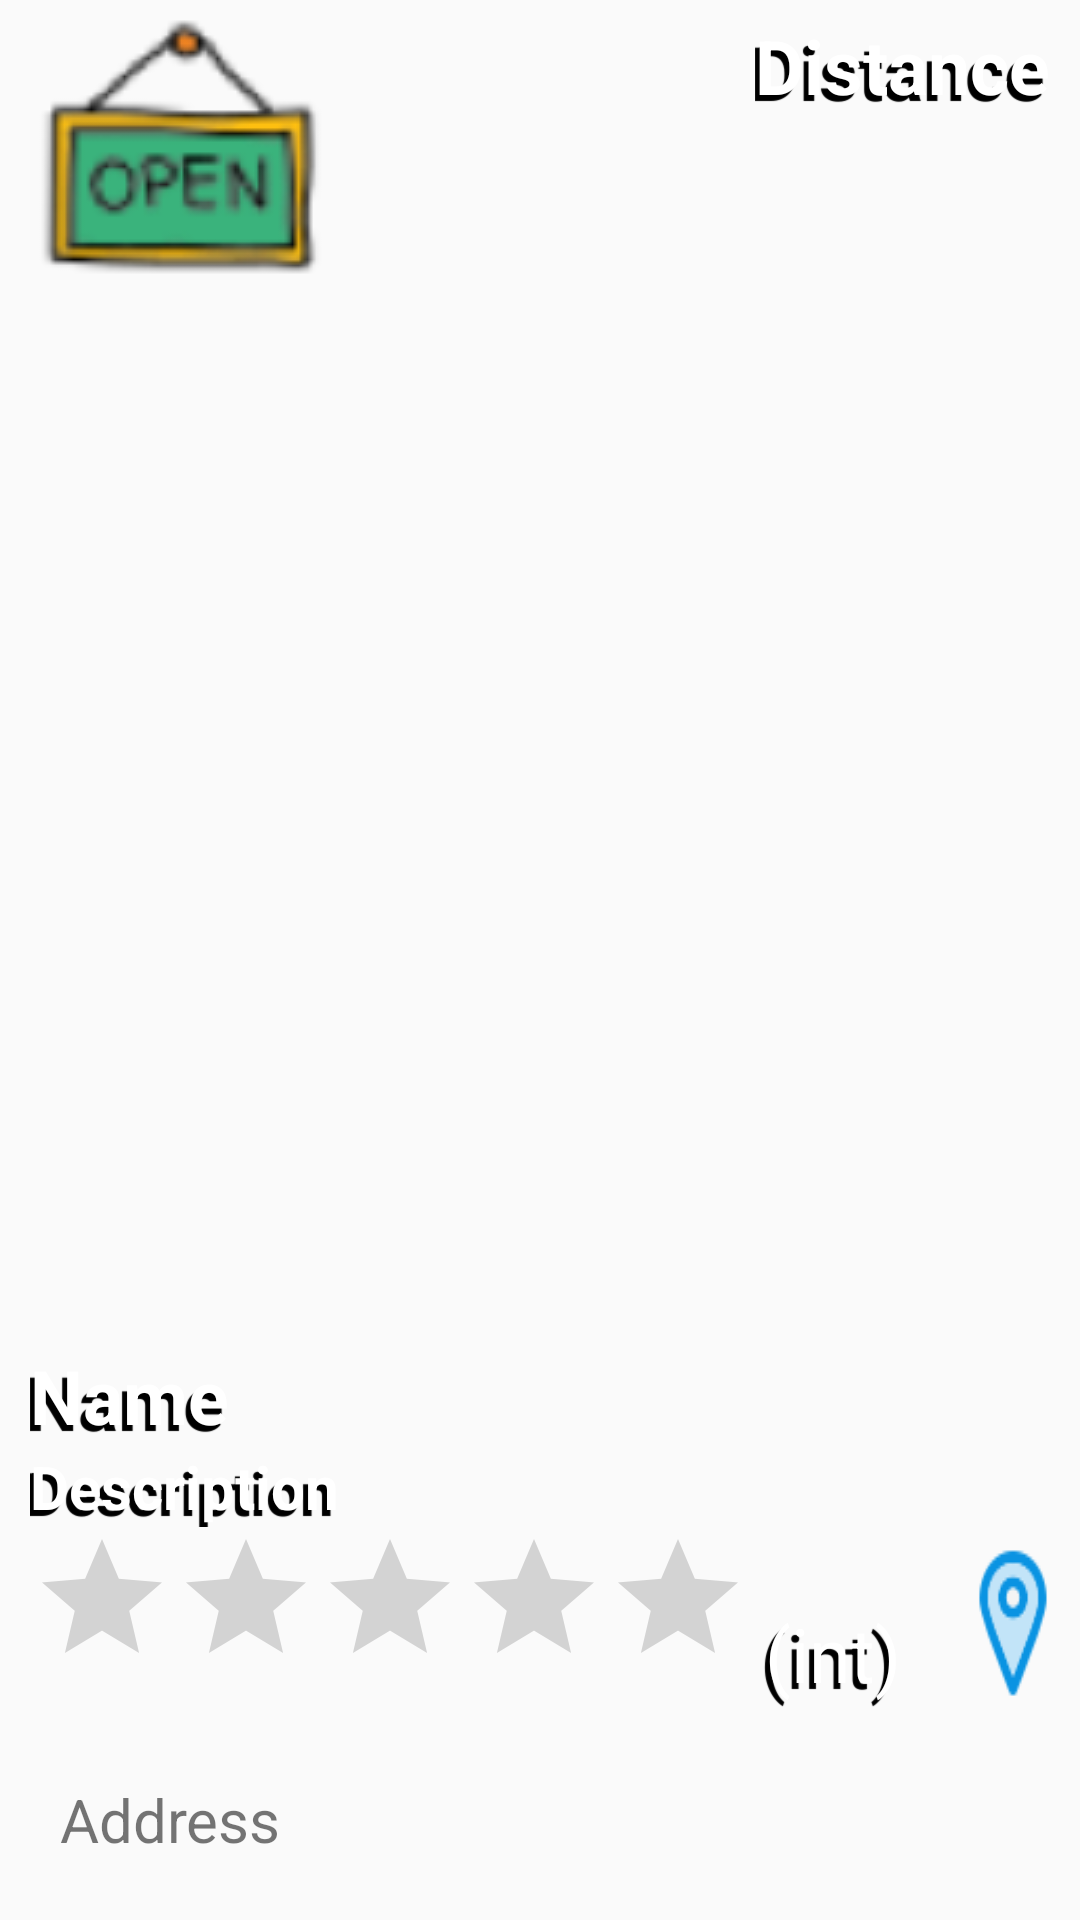

Locate icon controls on the screen. Image size 1080 × 1920, boxes as (x1, y1, x2, y2).
location: (979, 1550, 1047, 1696)
